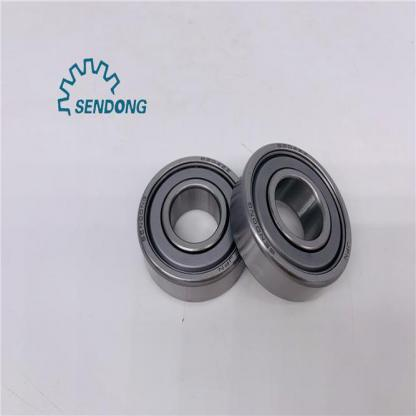FOD: (228, 138, 353, 306), (136, 151, 254, 303)
